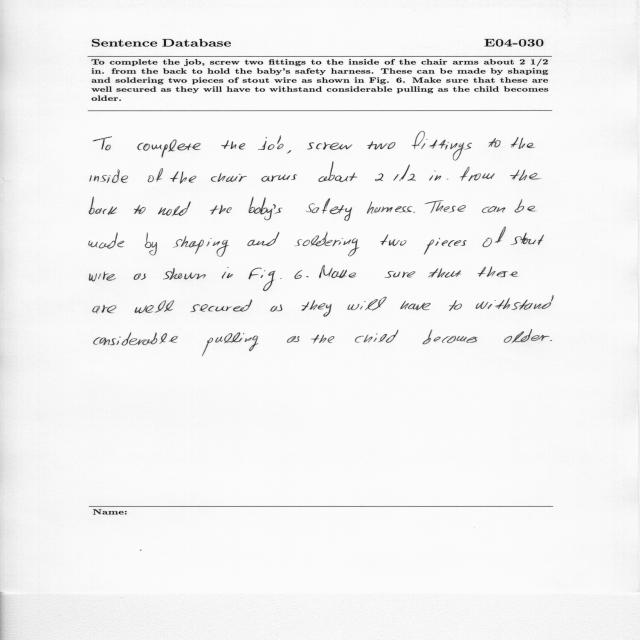word: (411, 131, 472, 161), (294, 232, 360, 257), (248, 197, 319, 220), (202, 333, 258, 357), (173, 236, 229, 257), (94, 332, 178, 346), (476, 295, 554, 310), (137, 140, 201, 158), (423, 330, 478, 345), (319, 161, 358, 182), (249, 268, 282, 291), (191, 300, 252, 312), (424, 238, 467, 255), (322, 198, 352, 221), (504, 330, 549, 344), (89, 232, 124, 249), (367, 201, 412, 214), (355, 330, 398, 343), (348, 297, 387, 311), (425, 200, 466, 213), (90, 169, 128, 183), (135, 301, 175, 314), (163, 268, 206, 280), (302, 300, 332, 317), (89, 197, 117, 215), (158, 201, 191, 216), (460, 167, 495, 181), (319, 265, 356, 278), (483, 227, 506, 247), (478, 267, 519, 278), (248, 232, 280, 246), (510, 232, 544, 245), (258, 135, 283, 150), (393, 165, 416, 181), (308, 142, 353, 150), (510, 170, 541, 181), (170, 171, 196, 184), (428, 268, 461, 278), (211, 173, 247, 182), (380, 234, 407, 246), (511, 137, 536, 149), (261, 174, 297, 182), (145, 232, 157, 256), (515, 199, 537, 212), (89, 272, 116, 282), (401, 301, 431, 310), (93, 137, 112, 151), (367, 141, 395, 150), (221, 140, 246, 149), (210, 205, 232, 215), (385, 271, 416, 278), (93, 305, 117, 314), (148, 168, 163, 182), (311, 335, 334, 344), (429, 171, 448, 181), (482, 206, 505, 213), (449, 300, 462, 311), (222, 267, 233, 279), (488, 138, 501, 147), (134, 205, 146, 214), (287, 336, 300, 343), (134, 273, 146, 280), (271, 305, 283, 312), (294, 270, 302, 279), (375, 174, 383, 182), (287, 150, 291, 154), (306, 276, 309, 277), (413, 212, 415, 213), (550, 340, 552, 341)
